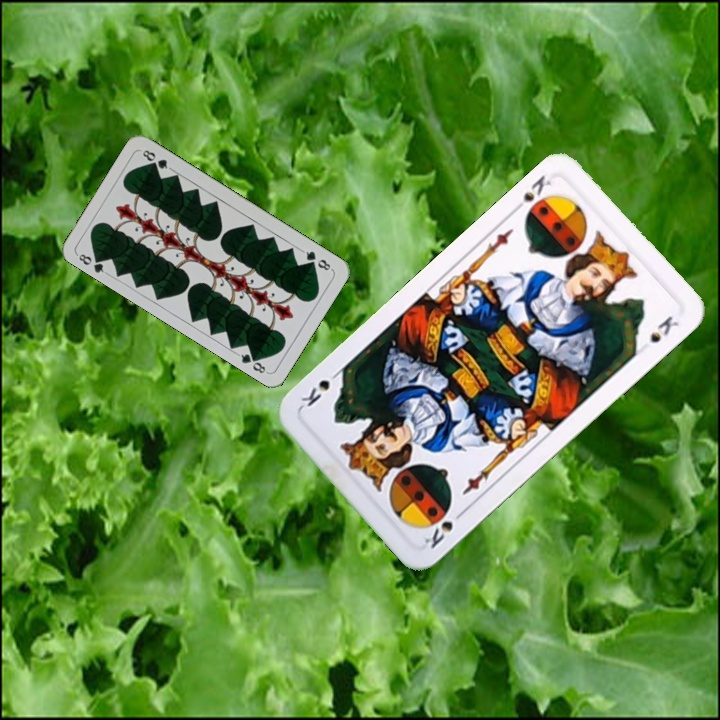G8: (298, 246, 335, 273), (73, 250, 110, 277)
SK: (420, 505, 468, 552), (508, 170, 554, 216)
